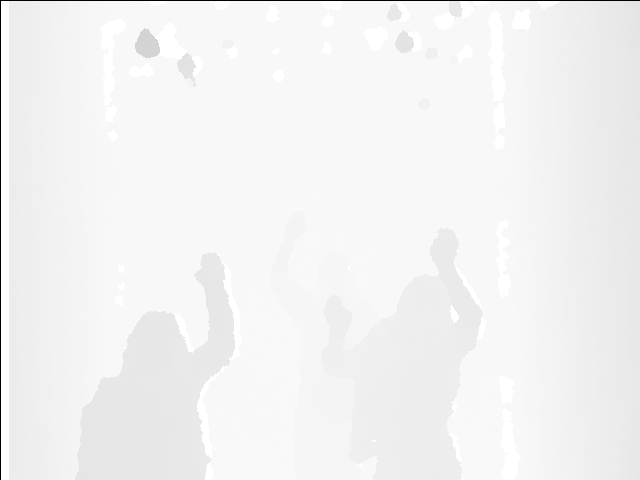hand: (193, 251, 228, 294), (431, 226, 461, 266), (283, 210, 310, 243)
